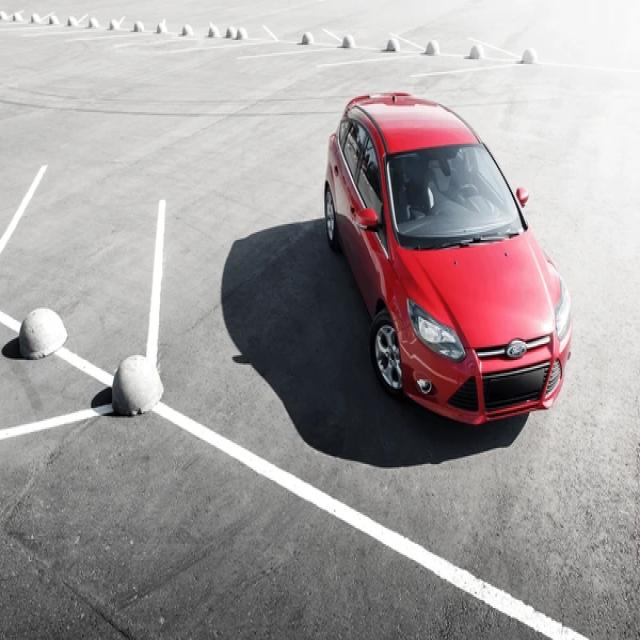ford: (505, 339, 535, 362)
